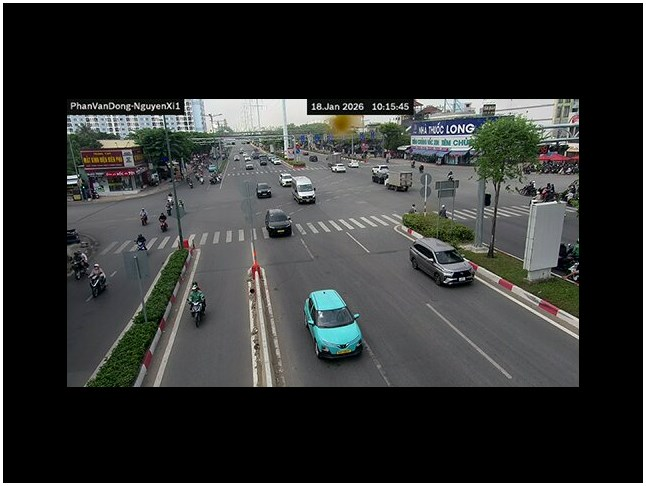car: (303, 288, 364, 359), (408, 237, 476, 287), (265, 209, 292, 237), (293, 177, 317, 205), (255, 183, 272, 199), (278, 172, 295, 186), (330, 164, 348, 174)
motorbike: (87, 269, 108, 299)
truck: (293, 176, 316, 204)
